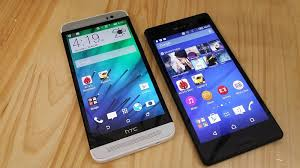htc: (59, 5, 177, 168)
